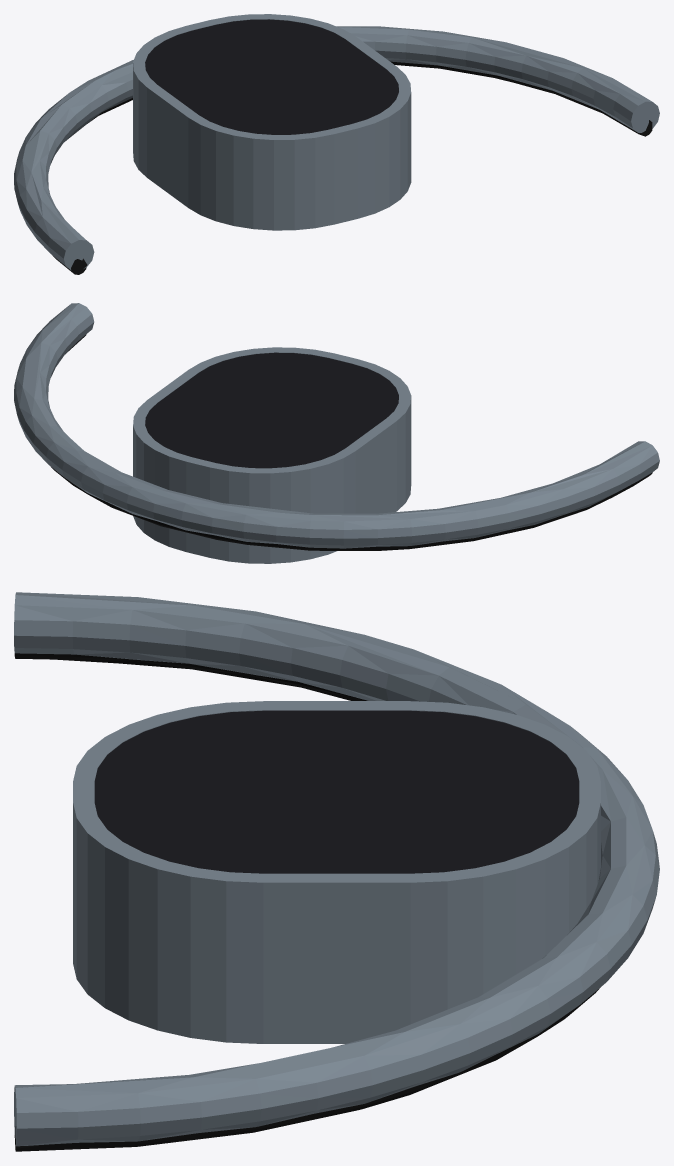
Rendered from auriculares_variantes.glb.
3 views of the same model, one above another, from view 1: azimuth 30°, elevation 25°; view 2: azimuth 150°, elevation 25°; view 3: azimuth 270°, elevation 25° (orthographic). The views are drawn at different scales.
Visible parts, largest first — view 1: carcasa_auricular_dato@copa, carcasa_auricular_dato@diadema; view 2: carcasa_auricular_dato@copa, carcasa_auricular_dato@diadema; view 3: carcasa_auricular_dato@copa, carcasa_auricular_dato@diadema.
Boxes of the visible parts, x1,y1,x2,y2 form: carcasa_auricular_dato@copa: (133,14,411,230); carcasa_auricular_dato@diadema: (14,26,659,274); carcasa_auricular_dato@copa: (133,347,411,563); carcasa_auricular_dato@diadema: (14,303,659,550); carcasa_auricular_dato@copa: (73,701,600,1043); carcasa_auricular_dato@diadema: (14,592,659,1151).
Size of the model in its own units: 20 by 2.9 by 10.52.
